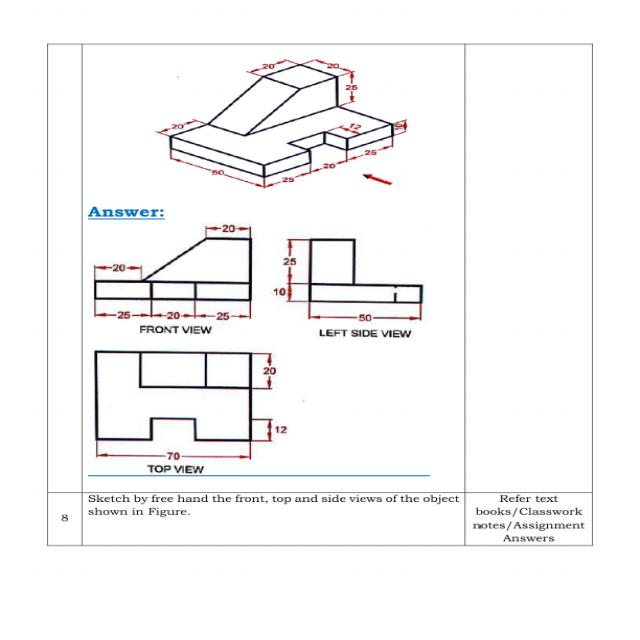Drawings: (148, 55, 415, 192), (89, 346, 294, 462), (86, 220, 260, 322), (274, 232, 431, 325)
